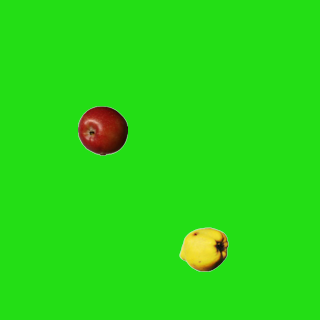Apple Braeburn: (77, 105, 127, 155)
Quince: (178, 224, 228, 274)
